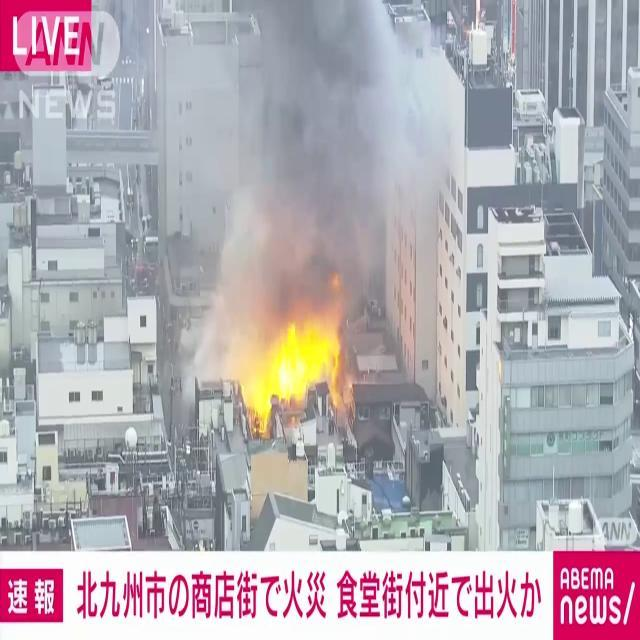Fire: (240, 304, 354, 428)
Smoke: (192, 1, 438, 320)
